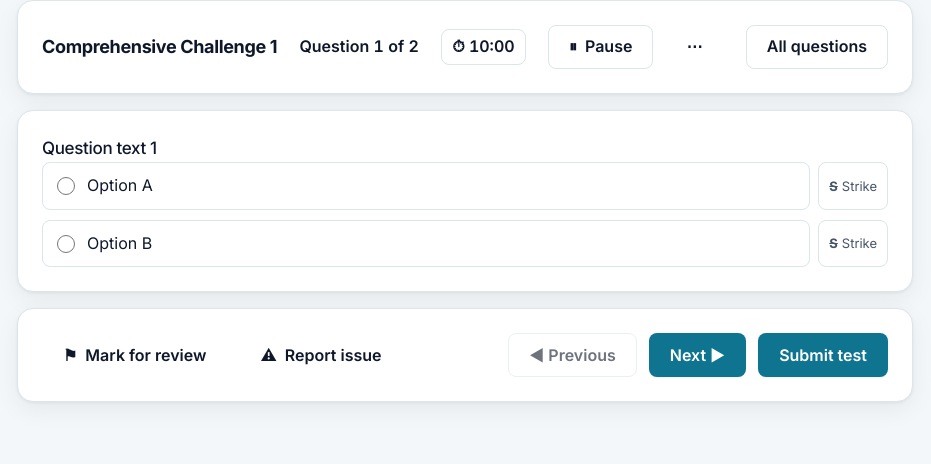
Scenario: AttemptPlayer timers and pause › disables Pause when every pause is used, and explains a refused pause
This screenshot has width=931, height=464.
Expected: the heading "Question text 1" is shown, [42,138,157,158]
What coordinates should you click on to do the following:
click the button "⏸ Pause"
I would click on:
 (601, 47)
Its box is [548,25,653,69].
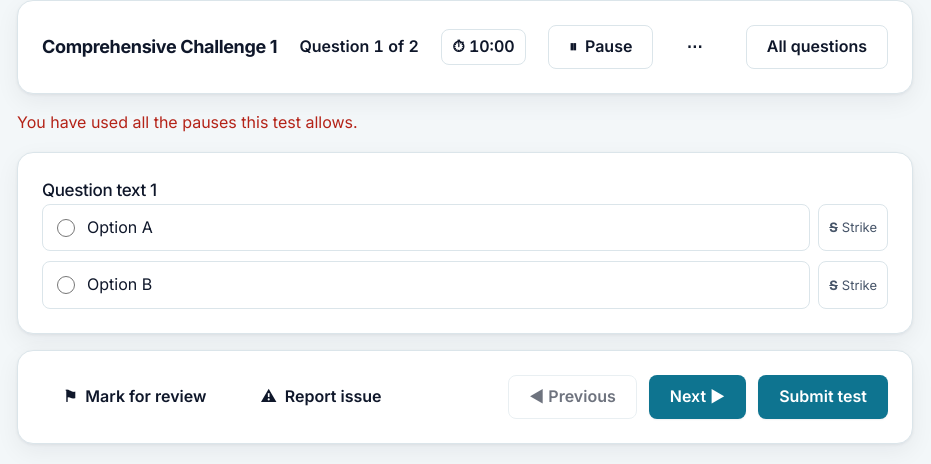
Now the message reads "You have used all the pauses this test allows.", box [17,112,358,132]
